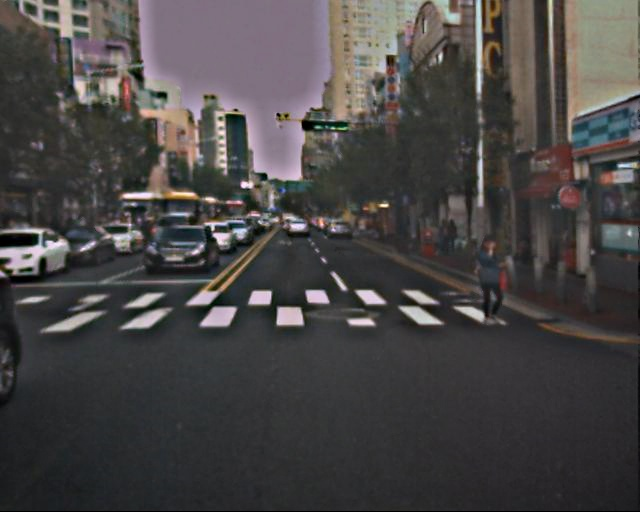person: (467, 232, 506, 328), (432, 219, 461, 253), (514, 238, 534, 263)
